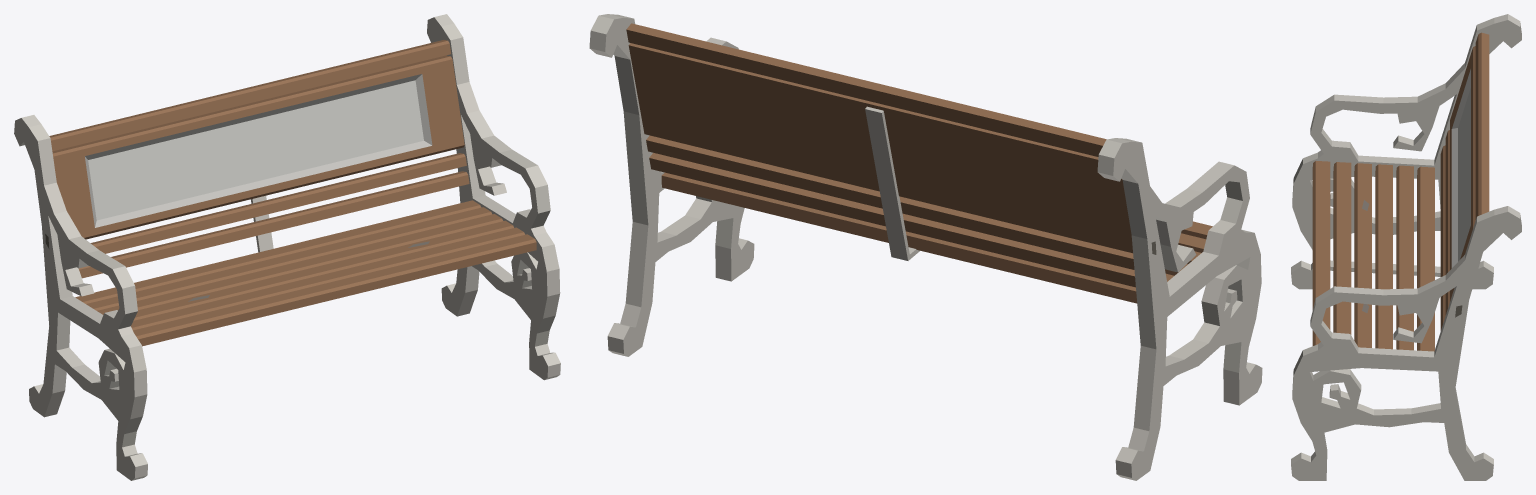
File: station-bench-5f56b4.glb
3 renders of one model, left to right at view 1: azimuth 30°, elevation 25°; view 2: azimuth 150°, elevation 25°; view 3: azimuth 270°, elevation 25°, orthographic. The views are drawn at different scales.
Visible parts, largest first — view 1: bench; view 2: bench; view 3: bench.
Boxes of the visible parts, <box> form: bench: <box>14,14,560,480</box>; bench: <box>589,14,1262,480</box>; bench: <box>1291,14,1521,480</box>.
Size of the model in its own units: 1.5 by 0.9525 by 0.7406.
